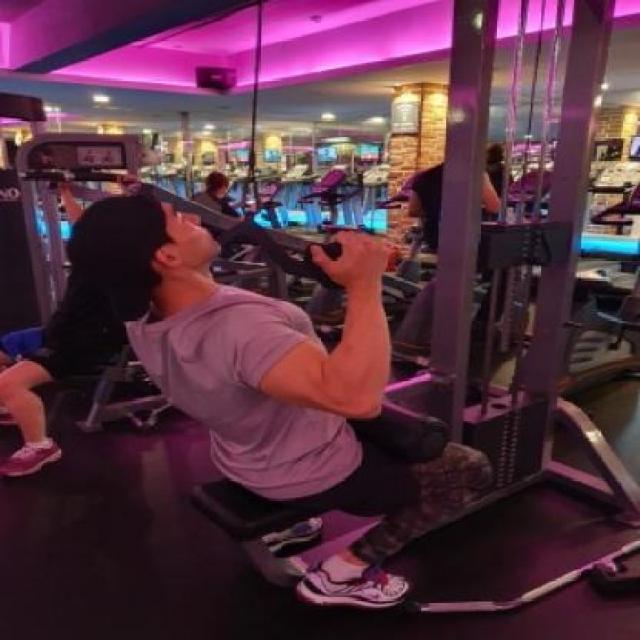Lat Pull Down: (74, 0, 640, 620)
